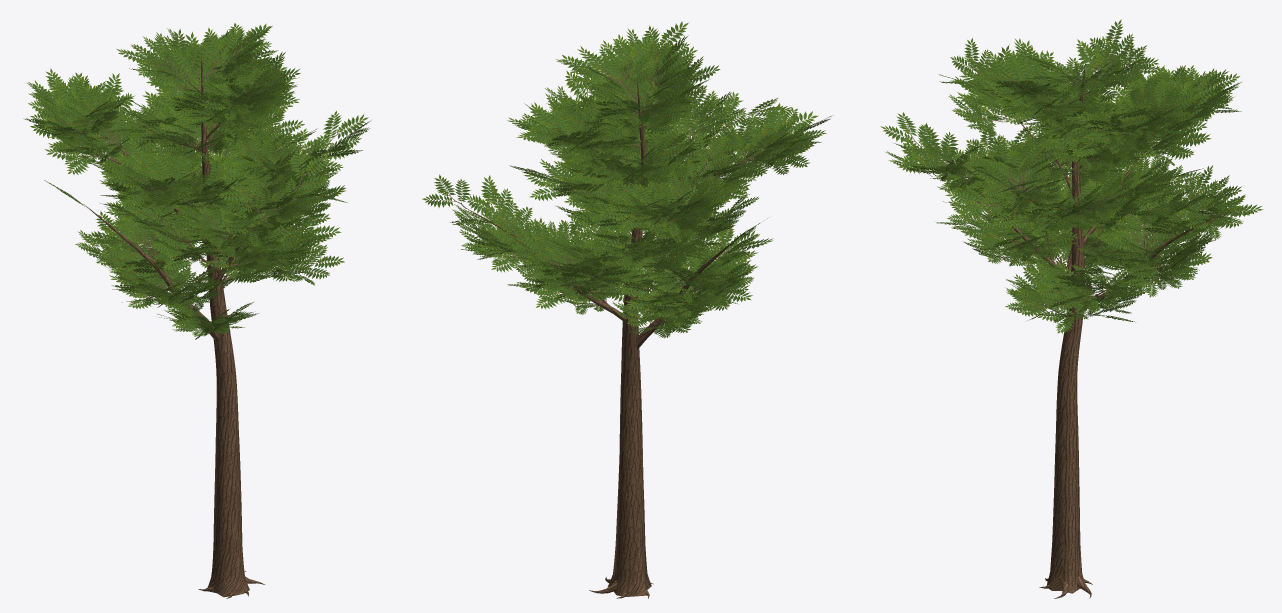
Rendered from corealm_walnut_2.glb.
3 views of the same model, side by side, from view 1: azimuth 30°, elevation 25°; view 2: azimuth 150°, elevation 25°; view 3: azimuth 270°, elevation 25° (orthographic). The views are drawn at different scales.
Parts seen in each view (by area): view 1: corealm_walnut_2; view 2: corealm_walnut_2; view 3: corealm_walnut_2.
Boxes of the visible parts, x1,y1,x2,y2 form: corealm_walnut_2: (23,23,371,598); corealm_walnut_2: (422,21,833,598); corealm_walnut_2: (880,19,1263,598).
Bounding box in the file's own units: 7.72 × 13 × 8.61.
Materials: 2 (2 with a texture image).
